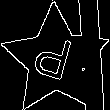P_S: (32, 31, 79, 90)
